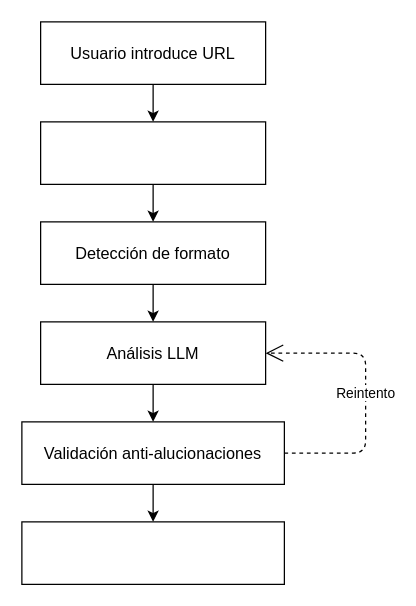
Image size: 416x606. Some labels were removed from this diagram. Here are the shapes that lost their labels. From the top down, the centre of each, then its label:
[152,152]: Validación y descarga
[152,552]: Schema propuesto al usuario
